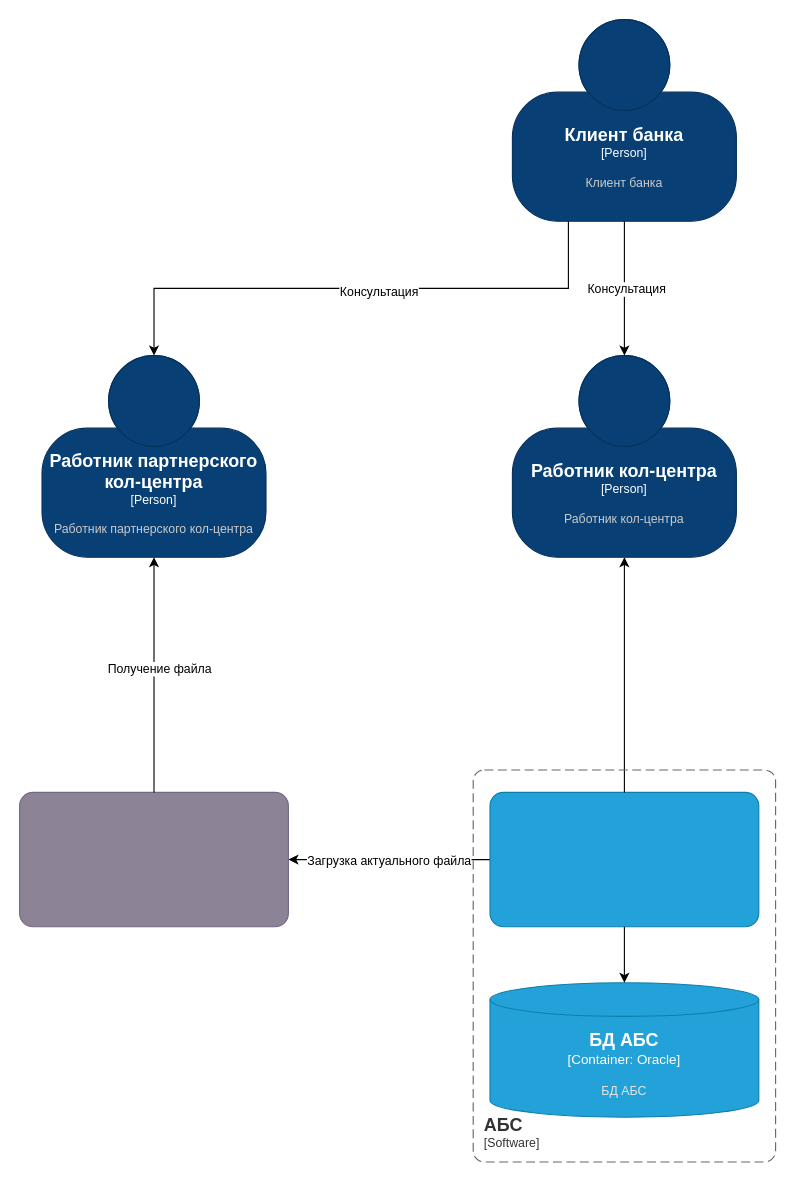
Some shapes in this 795 by 1182 pixel diagram are drawn without their labels. Each missing label, with the centre of its shape:
FTP [Software System] FTP: point (153, 859)
АБС [Container: Software] АБС: point (624, 859)
